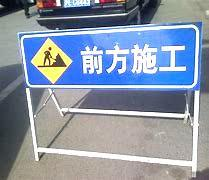sign: (18, 33, 199, 90)
